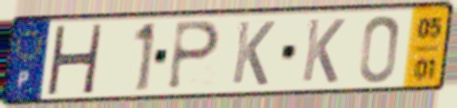0: (358, 13, 403, 86)
1: (131, 20, 158, 94)
H: (43, 23, 106, 95)
K: (299, 16, 348, 86), (229, 19, 278, 88)
P: (164, 19, 223, 92)
